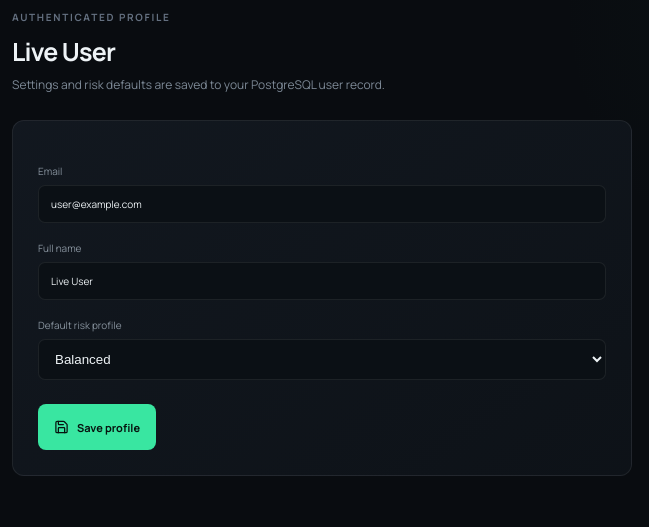
Scenario: real-client mutation flows › patches the authenticated profile
Step 1. Replace the text in the field labelled "Full name" with "Updated User" → (322, 281), box [38,262,606,300]
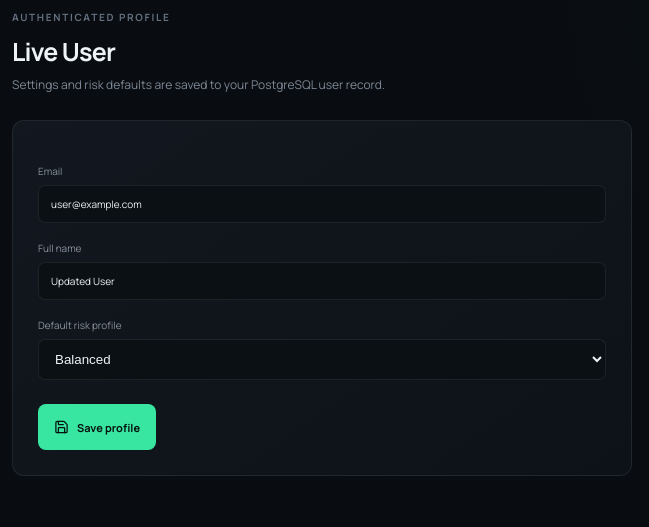
Step 2. Click the button "Save profile" → (97, 427), box [38,404,156,450]
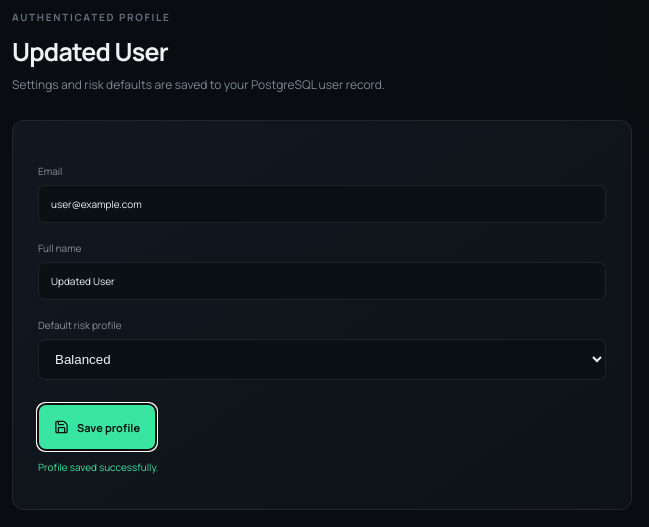
Result: the text "Profile saved successfully." is shown at [38,460,158,474]
